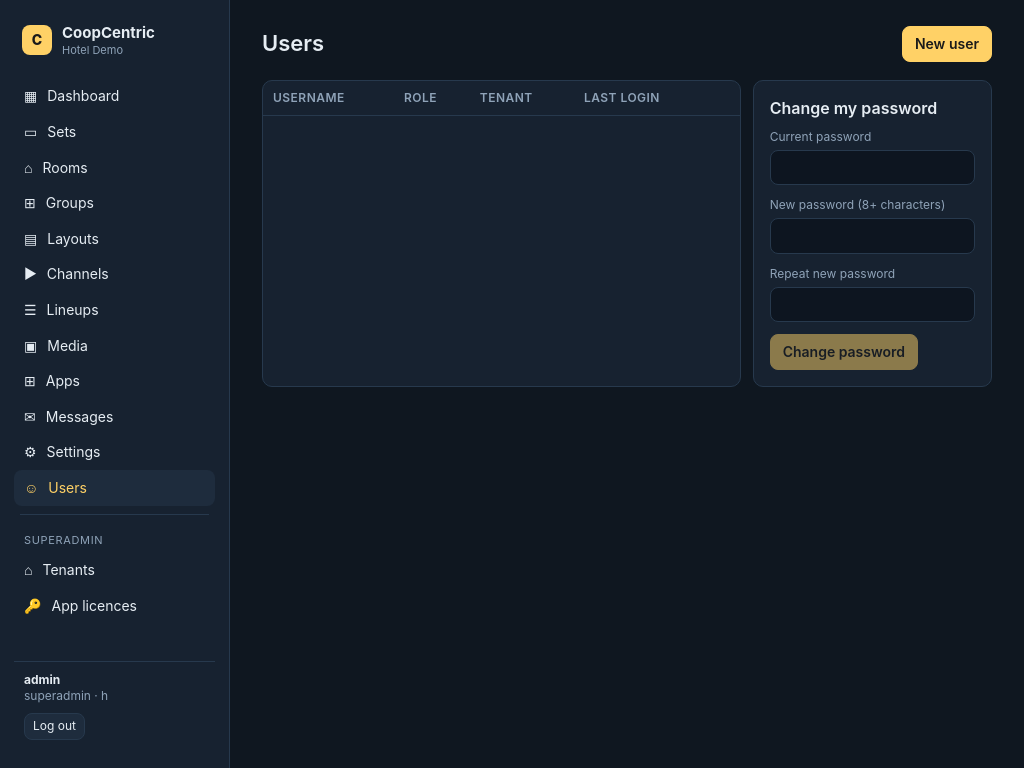
Test: step 5 pages › users: create a tenant-admin
Click the button "New user" at (947, 44), box x1=902 y1=26 x2=992 y2=62
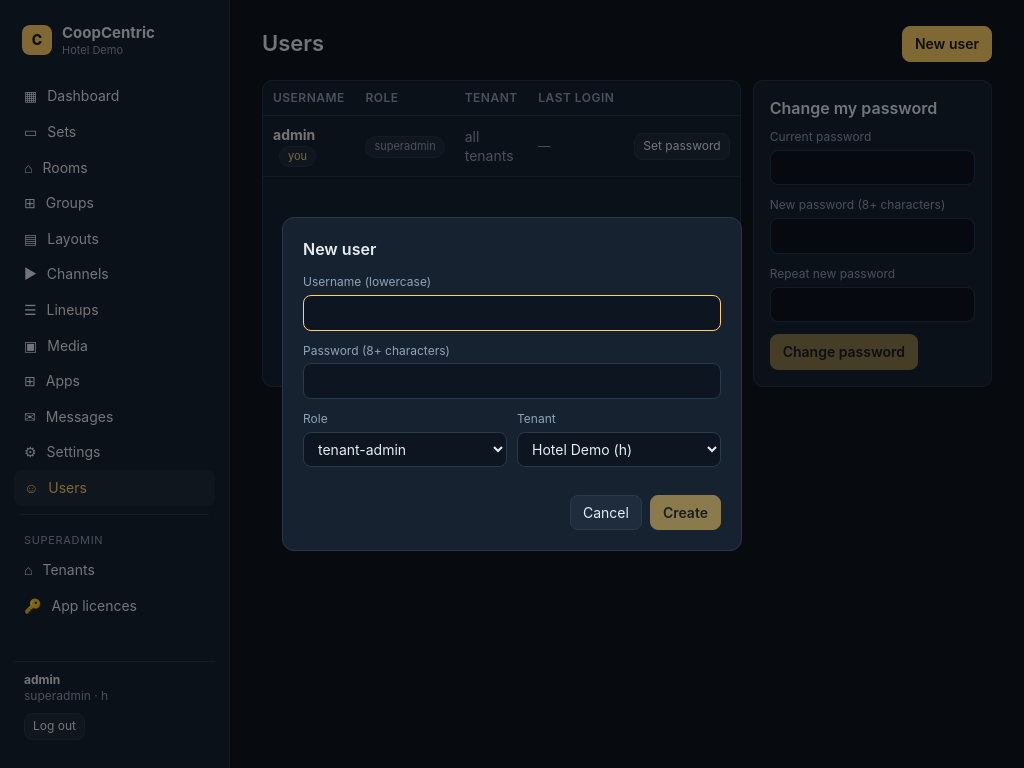
Type "Bob" into the field named "Username" at (512, 313), box x1=303 y1=295 x2=721 y2=330
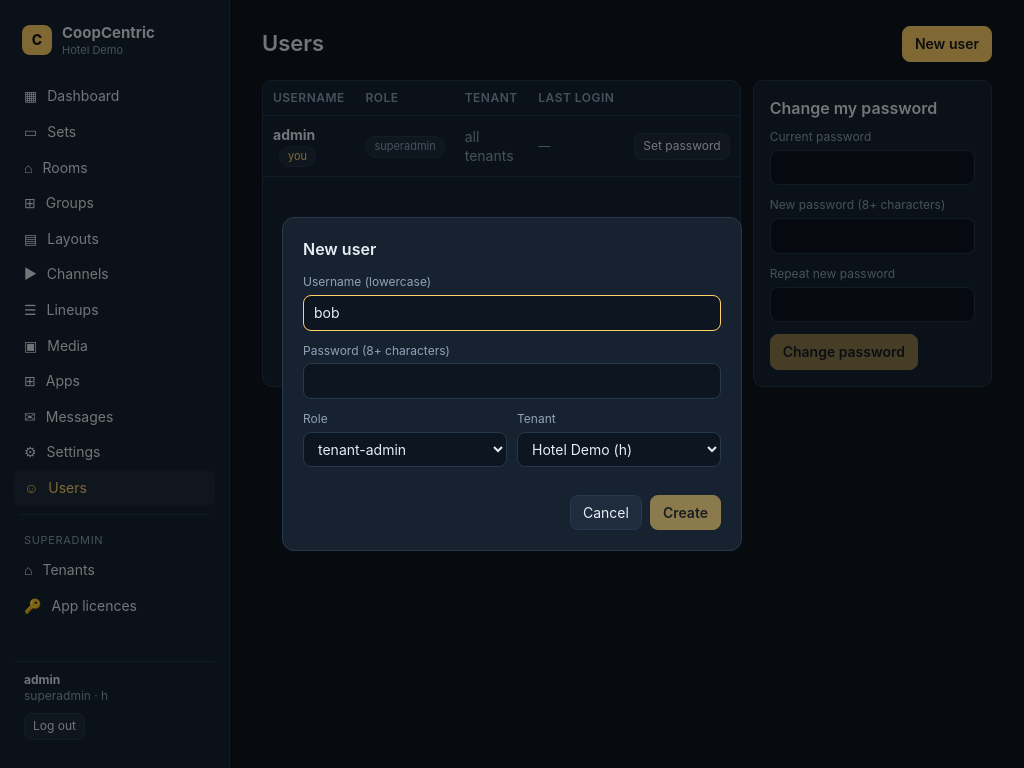
Type "password1" into the password field named "Password" at (512, 381), box x1=303 y1=363 x2=721 y2=399
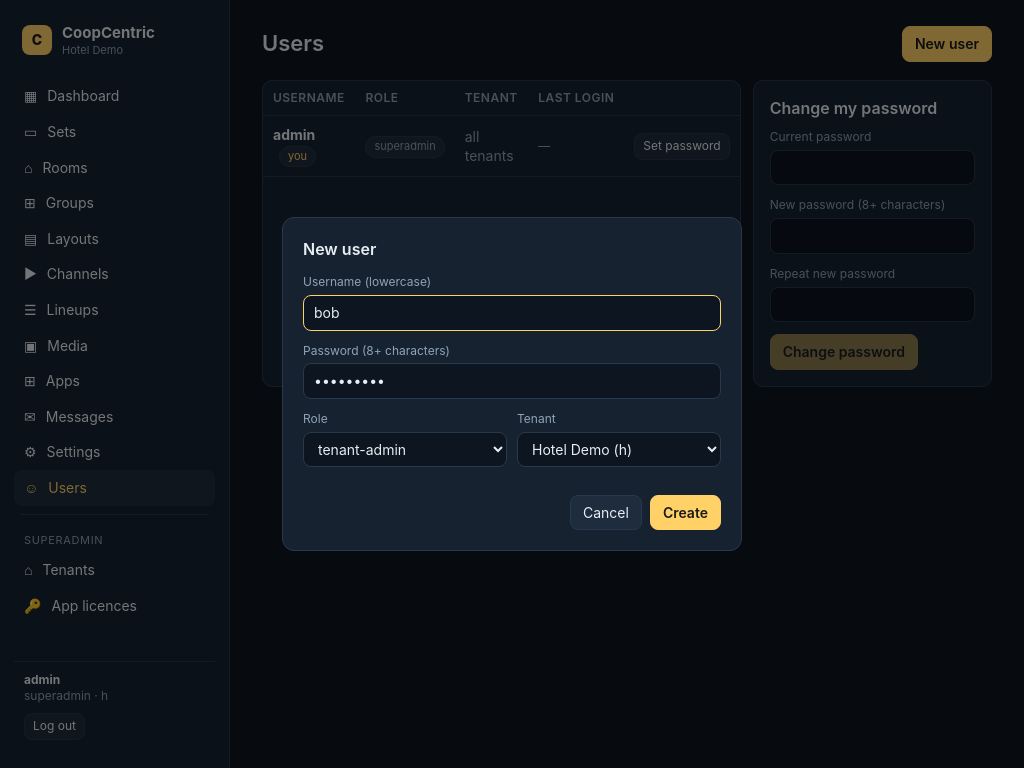
Click the button "Create" at (685, 512), box x1=650 y1=495 x2=721 y2=530
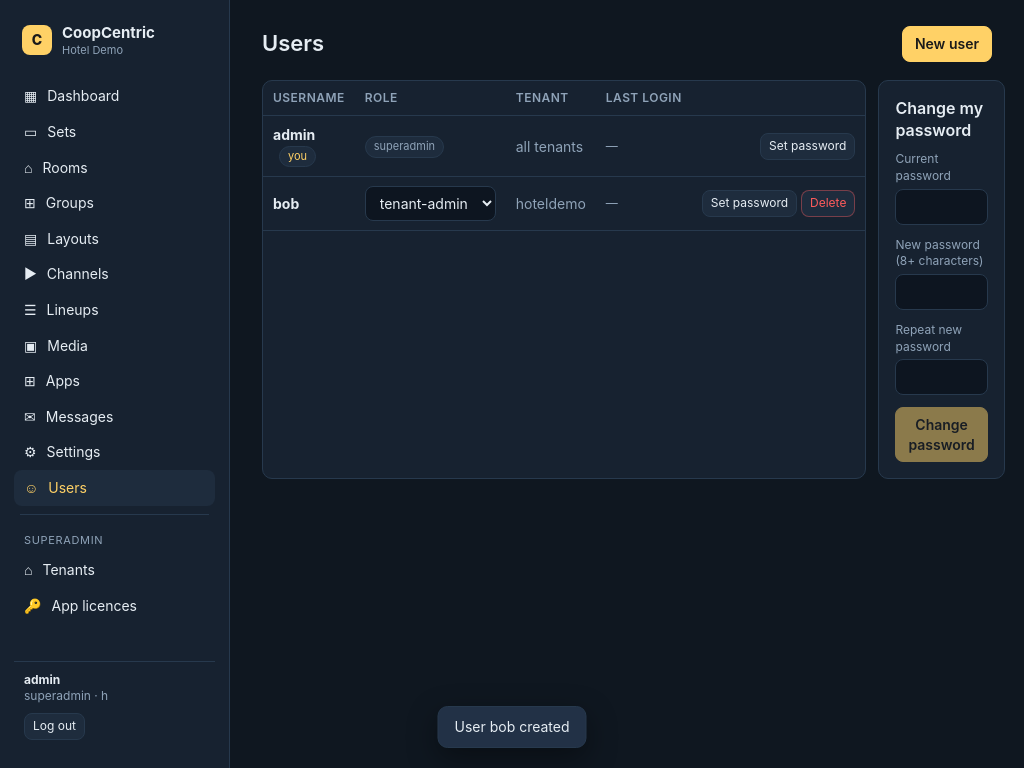
Now the text "bob" is shown, box x1=273 y1=195 x2=299 y2=212
